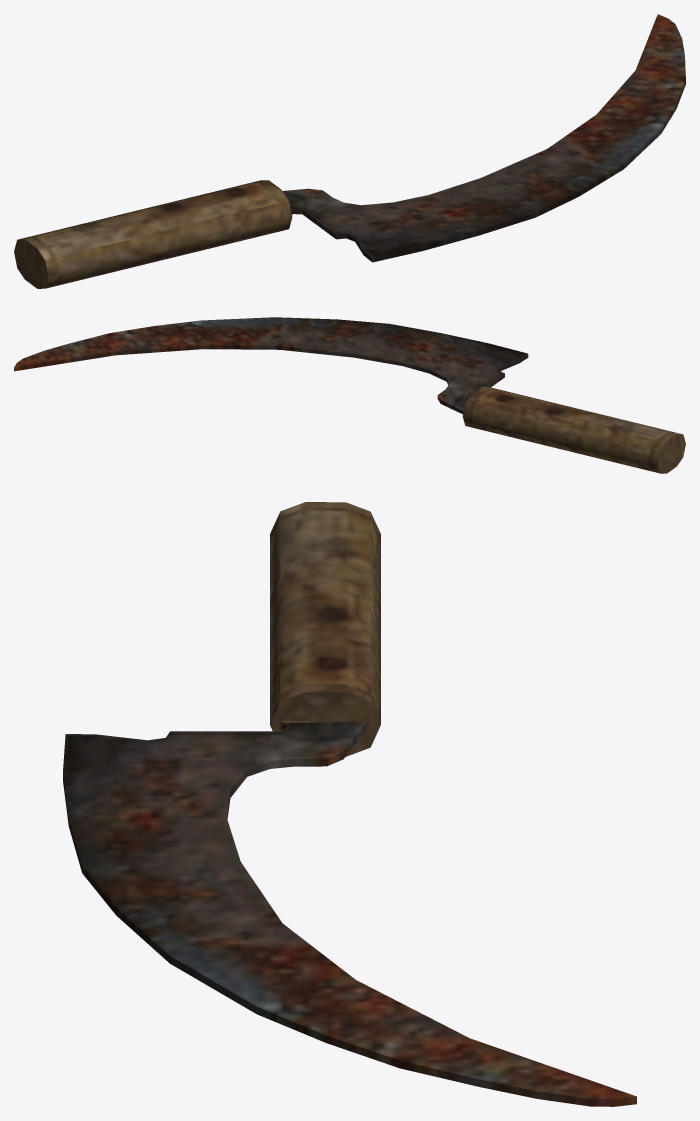
Rendered from sickle_mx_1.obj.
3 renders of one model, top to bottom at view 1: azimuth 30°, elevation 25°; view 2: azimuth 150°, elevation 25°; view 3: azimuth 270°, elevation 25°, orthographic. The views are drawn at different scales.
Visible parts, largest first — view 1: sickle_mx_1; view 2: sickle_mx_1; view 3: sickle_mx_1.
Boxes of the visible parts, x1,y1,x2,y2 form: sickle_mx_1: (14, 14, 685, 288); sickle_mx_1: (14, 317, 685, 473); sickle_mx_1: (63, 502, 636, 1106).
Bounding box in the file's own units: 0.4752 × 0.025 × 0.2027.
